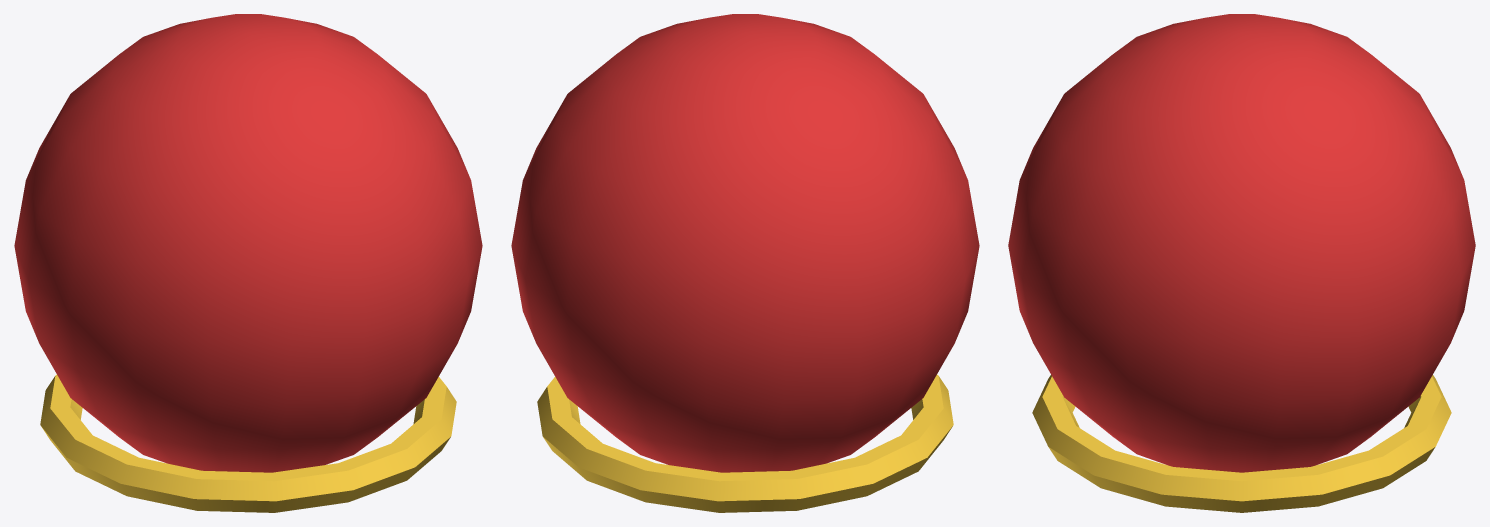
File: AccBubble.fbx
The picture shows the model from 3 angles, left to right: view 1: azimuth 30°, elevation 25°; view 2: azimuth 150°, elevation 25°; view 3: azimuth 270°, elevation 25°; orthographic projection.
Parts seen in each view (by area): view 1: AccBubble; view 2: AccBubble; view 3: AccBubble.
Part boxes in pixels (<box>): AccBubble: <box>14,14,482,512</box>; AccBubble: <box>511,14,979,512</box>; AccBubble: <box>1008,14,1475,512</box>.
Size of the model in its own units: 182 by 185 by 185.
